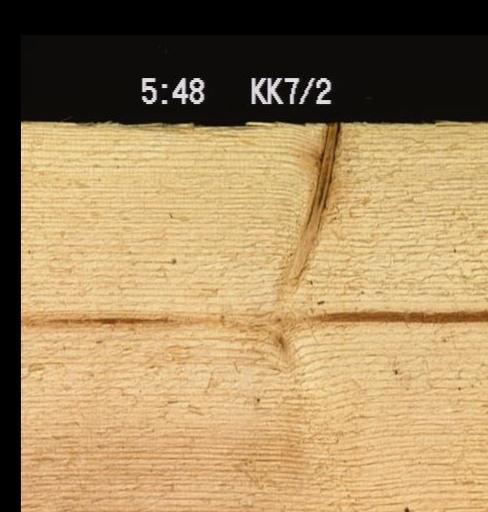dry_knot: (272, 121, 343, 303)
